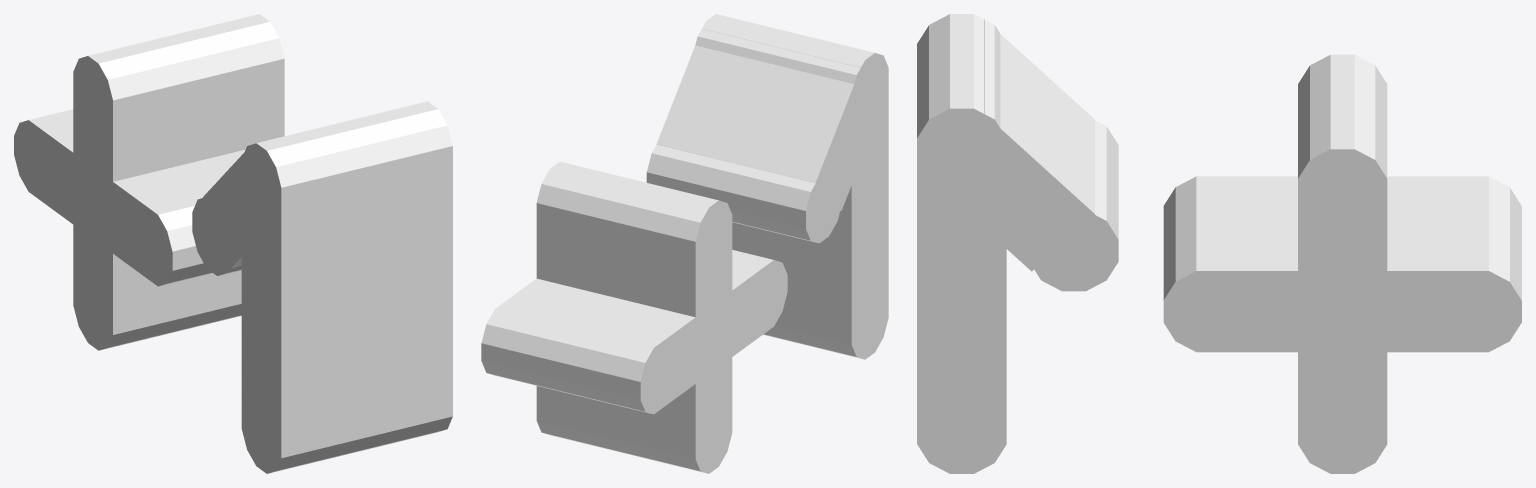
Rendered from Plusone.fbx.
The picture shows the model from 3 angles, left to right: view 1: azimuth 30°, elevation 25°; view 2: azimuth 150°, elevation 25°; view 3: azimuth 270°, elevation 25°; orthographic projection. The views are drawn at different scales.
Parts seen in each view (by area): view 1: mesh_2, mesh, cylinder_5, cylinder, mesh_1, cylinder_6, cylinder_3, cylinder_2, mesh_3, cylinder_1, cylinder_4; view 2: mesh, mesh_3, mesh_2, cylinder_1, cylinder, mesh_1, cylinder_4, cylinder_5, cylinder_3, cylinder_6, cylinder_2; view 3: mesh_1, mesh_2, mesh, mesh_3, cylinder, cylinder_5, cylinder_2, cylinder_1, cylinder_4, cylinder_3, cylinder_6.
Boxes of the visible parts, box(x1,y1,x2,y2) form: mesh_2: box(241, 156, 452, 447); mesh: box(73, 68, 284, 324); cylinder_5: box(241, 101, 452, 222); cylinder: box(73, 14, 284, 135); mesh_1: box(34, 115, 245, 281); cylinder_6: box(241, 394, 452, 473); cylinder_3: box(73, 271, 241, 350); cylinder_2: box(133, 197, 212, 286); mesh_3: box(203, 145, 279, 268); cylinder_1: box(14, 109, 73, 199); cylinder_4: box(192, 197, 241, 275); mesh: box(536, 212, 732, 450); mesh_3: box(656, 28, 886, 210); mesh_2: box(732, 77, 888, 335); cylinder_1: box(481, 302, 677, 414); cylinder: box(536, 161, 732, 273); mesh_1: box(505, 254, 768, 406); cylinder_4: box(646, 144, 842, 243); cylinder_5: box(695, 14, 888, 126); cylinder_3: box(536, 400, 732, 473); cylinder_6: box(763, 286, 888, 359); cylinder_2: box(732, 250, 787, 333); mesh_1: box(1208, 176, 1476, 352); mesh_2: box(917, 149, 1006, 433); mesh: box(1298, 190, 1387, 433); mesh_3: box(921, 19, 1094, 271); cylinder: box(1298, 54, 1387, 230); cylinder_5: box(917, 14, 1006, 189); cylinder_2: box(1163, 176, 1252, 352); cylinder_1: box(1432, 176, 1521, 352); cylinder_4: box(1029, 120, 1118, 291); cylinder_3: box(1298, 392, 1387, 473); cylinder_6: box(917, 392, 1006, 473).
Bounding box in the file's own units: 31.25 × 56.25 × 84.38.
Materials: 2 (2 with a texture image).
